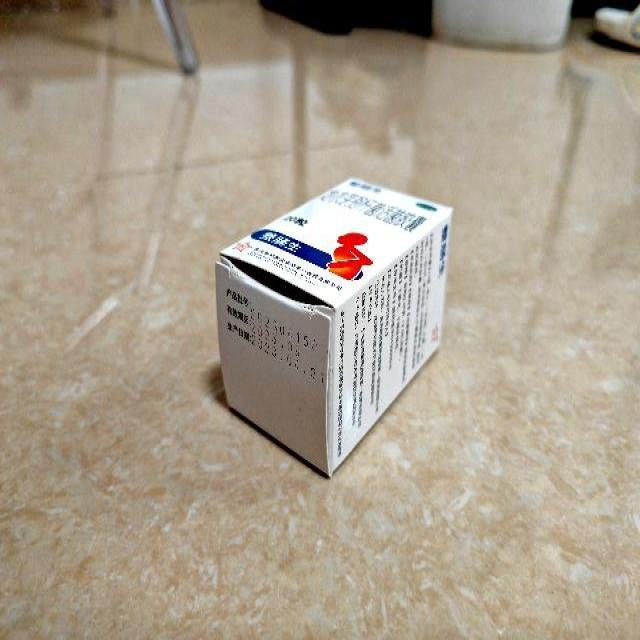box: (218, 176, 452, 476)
